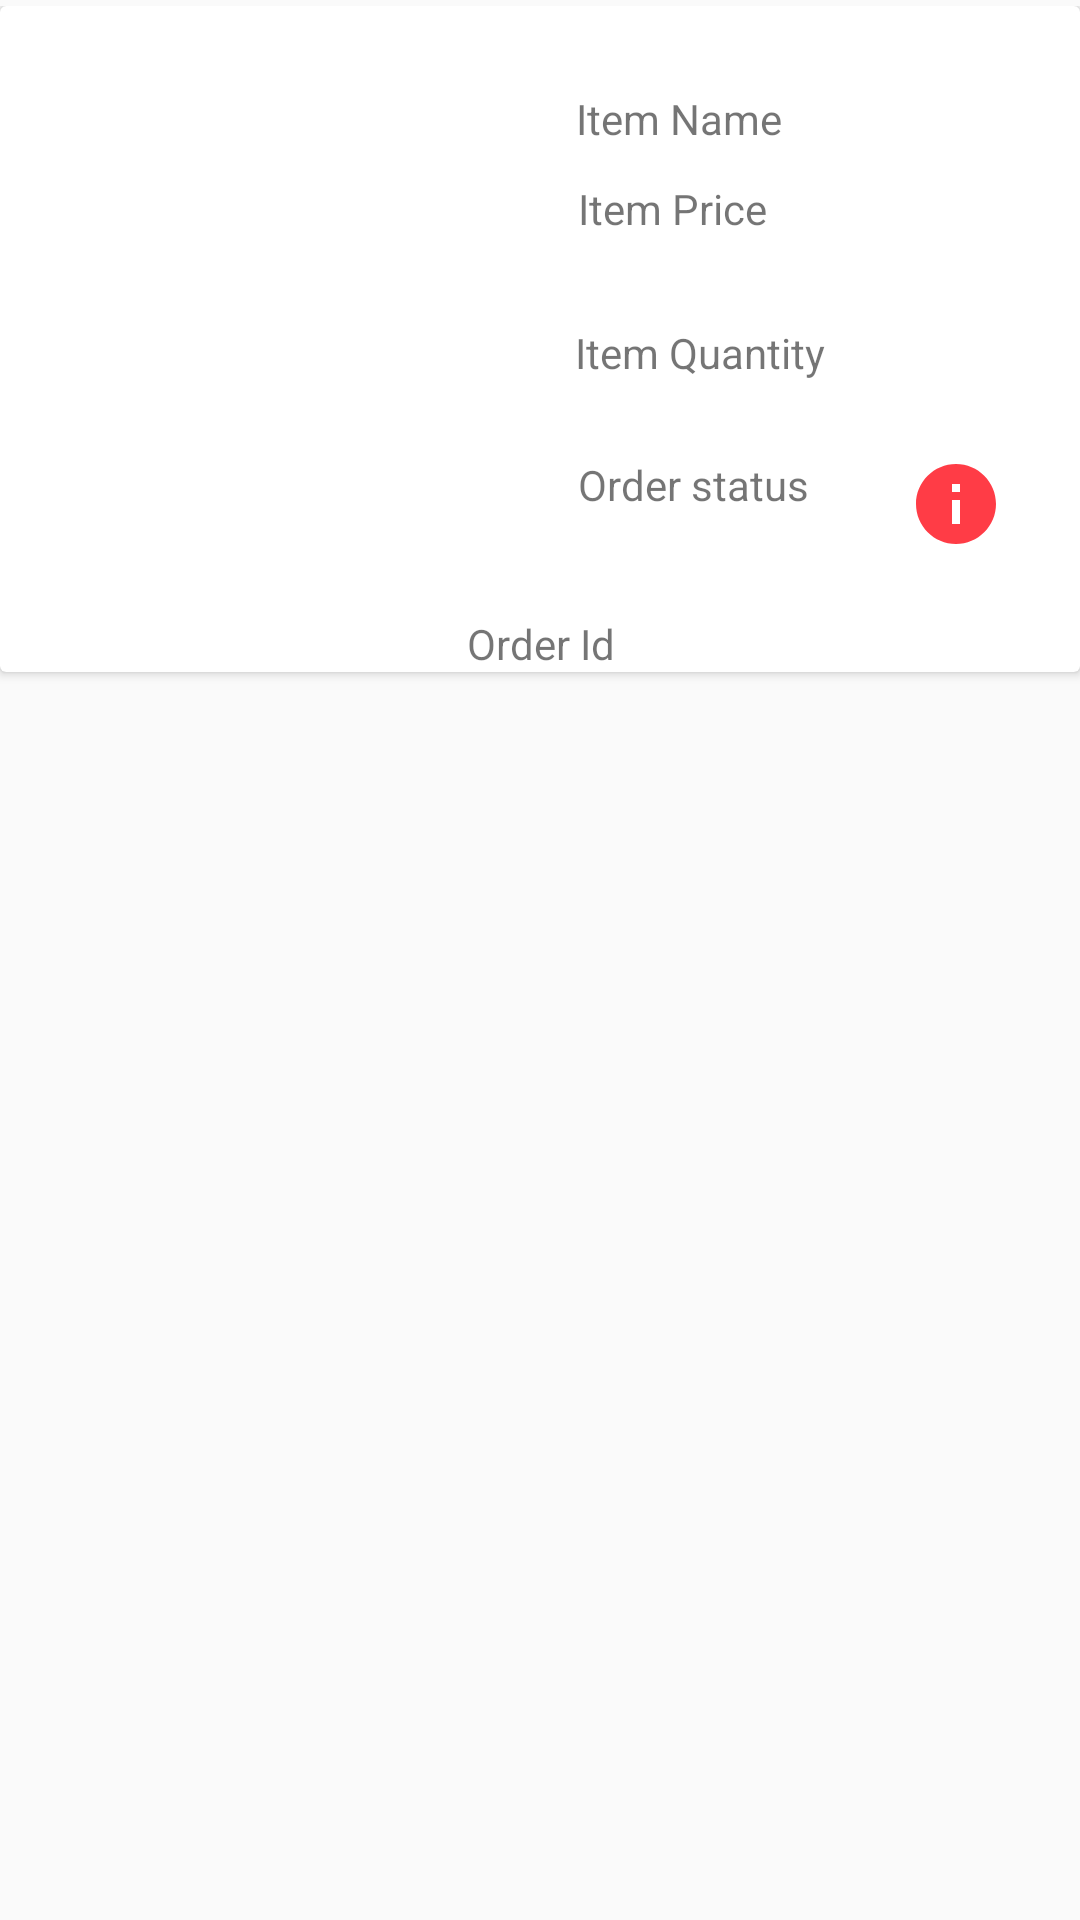

Icons on this 1080 × 1920 Android screen, each with the point to tap as (x,y):
info: (956,504)
